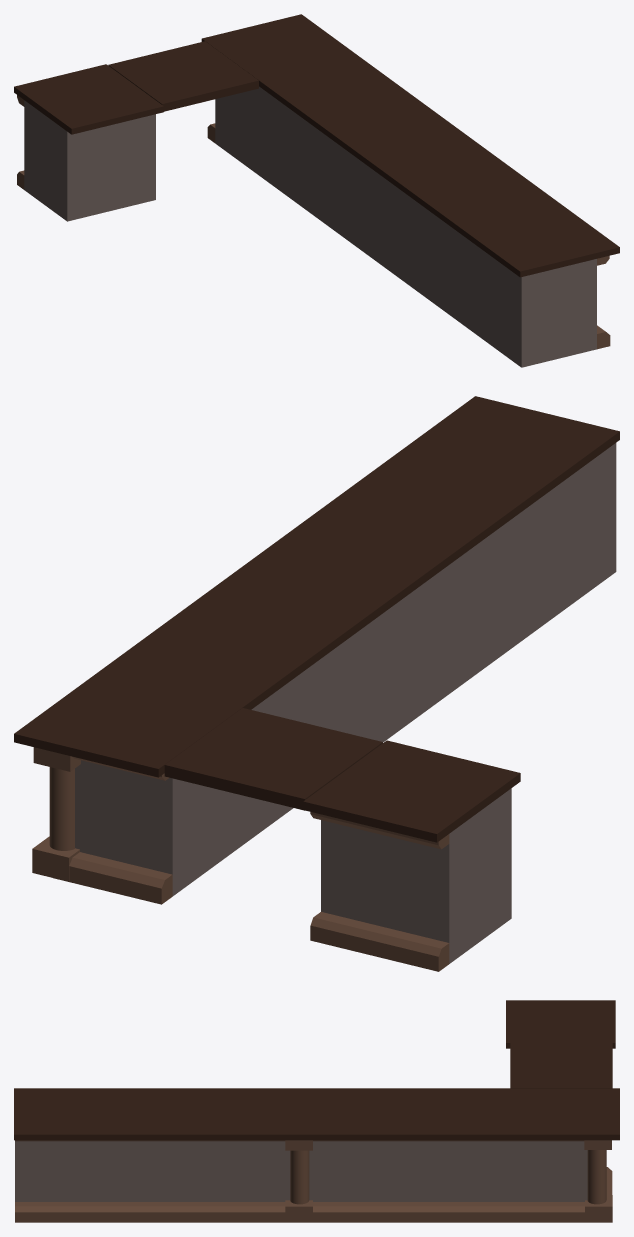
Rendered from bar.fbx.
3 views of the same model, one above another, from view 1: azimuth 30°, elevation 25°; view 2: azimuth 150°, elevation 25°; view 3: azimuth 270°, elevation 25° (orthographic). The views are drawn at different scales.
Visible parts, largest first — view 1: Куб, Куб.007, Куб.001, Куб.008, Куб.002; view 2: Куб.007, Куб, Куб.001, Куб.008, Куб.002, Цилиндр, Куб.004; view 3: Куб, Куб.007, Куб.008, Куб.002, Цилиндр, Цилиндр.001, Куб.004, Куб.005.
Part boxes in pixels (x1,y1,x2,y2): Куб: (207, 86, 610, 367); Куб.007: (201, 14, 619, 277); Куб.001: (17, 95, 155, 221); Куб.008: (14, 64, 163, 134); Куб.002: (108, 41, 258, 111); Куб.007: (14, 396, 619, 777); Куб: (53, 443, 616, 904); Куб.001: (310, 788, 511, 971); Куб.008: (303, 740, 520, 842); Куб.002: (164, 708, 382, 810); Цилиндр: (49, 767, 74, 850); Куб.004: (32, 836, 79, 881); Куб: (15, 1140, 612, 1222); Куб.007: (14, 1088, 619, 1140); Куб.008: (506, 1000, 615, 1048); Куб.002: (510, 1043, 612, 1088); Цилиндр: (587, 1150, 606, 1204); Цилиндр.001: (290, 1150, 309, 1204); Куб.004: (585, 1195, 612, 1222); Куб.005: (285, 1200, 312, 1222).
Size of the model in its own units: 654 by 210 by 1245.
